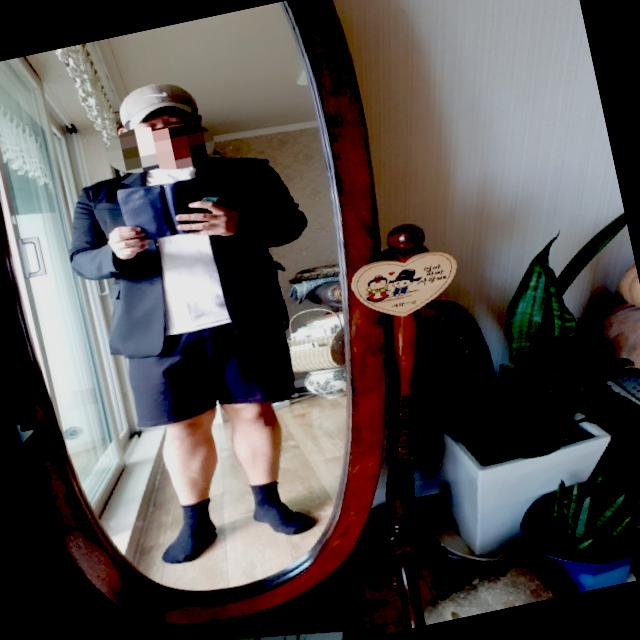blazer: (53, 128, 330, 372)
shortpants: (120, 296, 306, 427)
